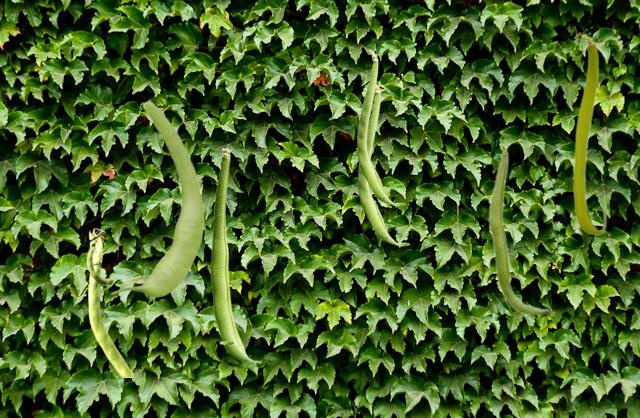french_bean: (110, 98, 204, 296), (487, 143, 555, 316), (210, 147, 261, 362), (358, 84, 409, 245), (357, 49, 405, 205), (86, 228, 134, 376), (572, 33, 606, 235)
